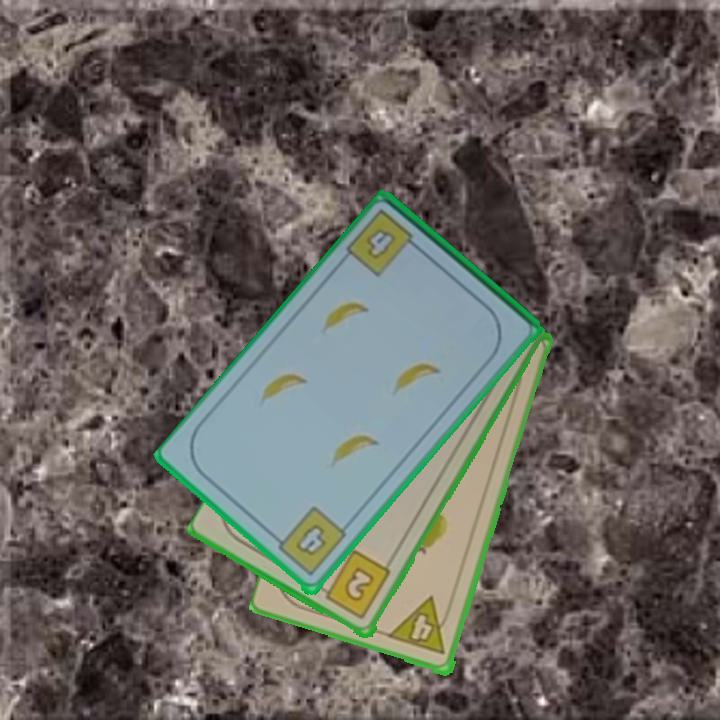2b: (315, 547, 394, 623)
4b: (269, 503, 350, 580), (343, 205, 426, 280)
4p: (386, 594, 456, 658)
